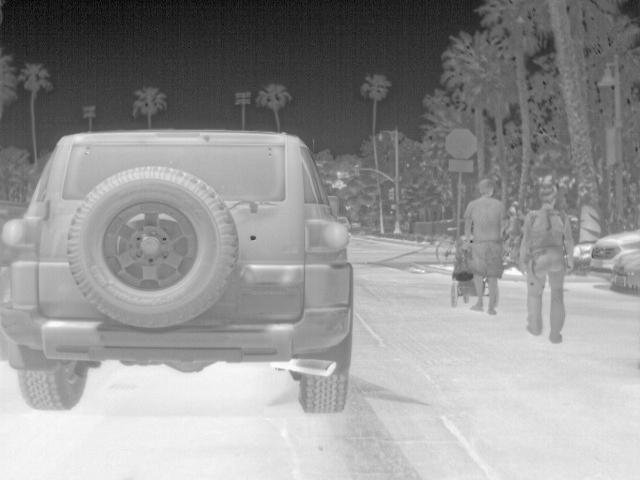car: (0, 124, 354, 412), (588, 227, 638, 274), (609, 252, 638, 296)
person: (518, 188, 573, 344), (459, 174, 508, 314)
